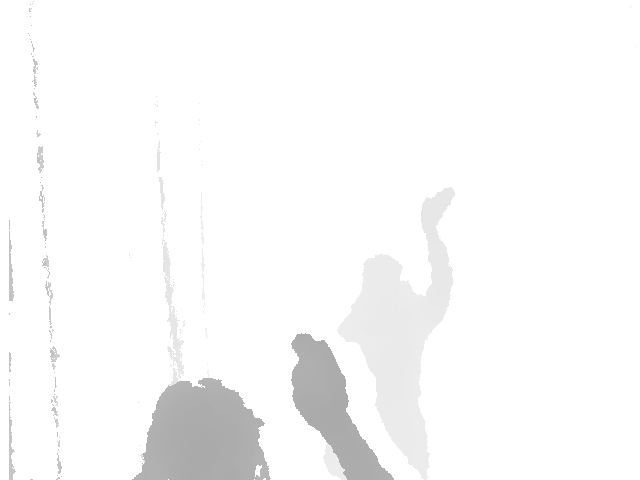hand: (289, 330, 351, 430), (419, 186, 457, 234)
head: (135, 378, 270, 480), (360, 252, 405, 302)
person: (128, 328, 396, 480), (335, 185, 462, 480)
